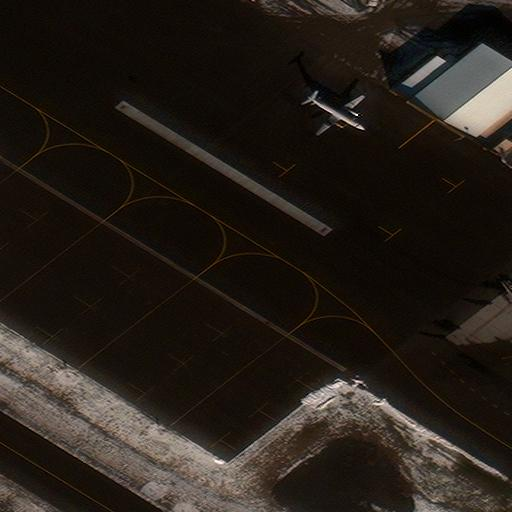Medium Civil Transport: (307, 96, 365, 135)
